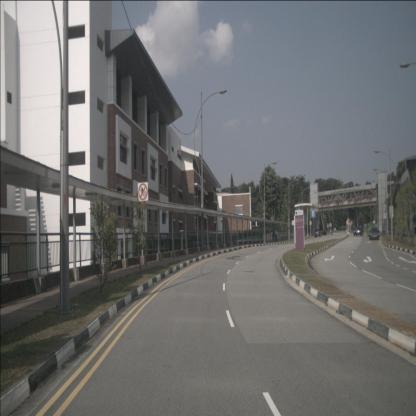human-pedestrian-adult: (274, 228, 278, 242), (272, 229, 274, 242)
vehicle-car: (369, 227, 380, 240), (354, 225, 364, 237), (314, 229, 322, 237)
